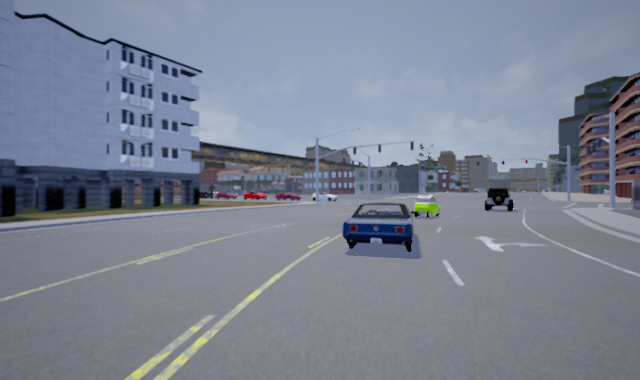vehicle: (340, 199, 414, 257), (409, 194, 441, 218), (483, 187, 513, 212), (311, 190, 340, 202), (274, 191, 302, 201), (243, 190, 267, 200), (215, 191, 238, 199)
